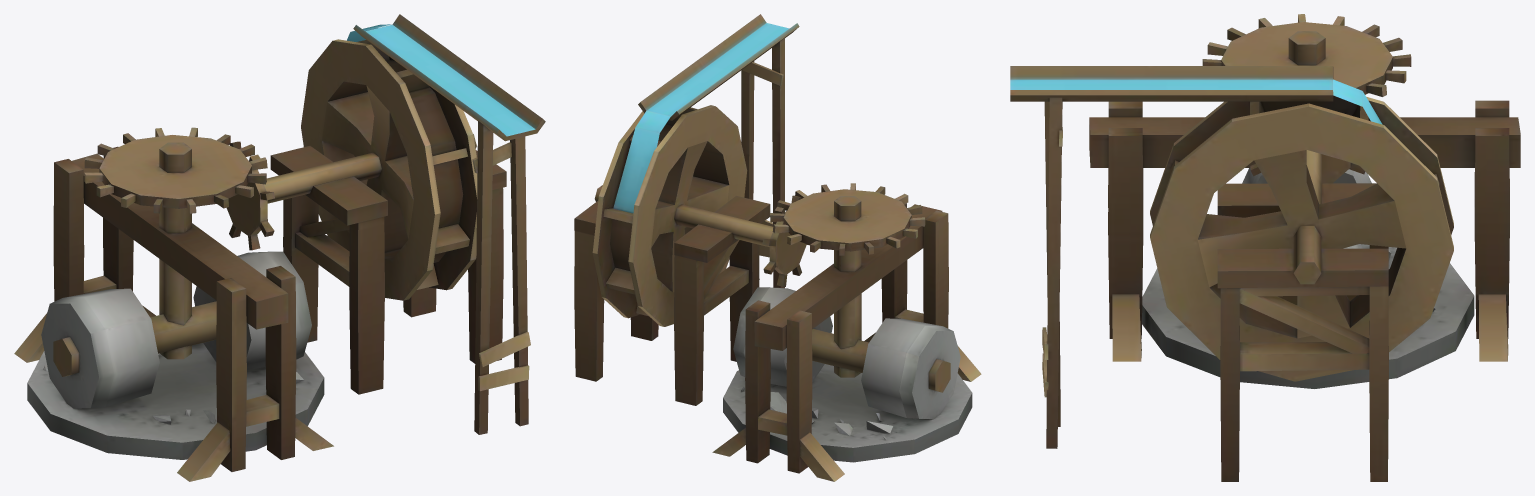
Rendered from stone-crusher.lod0.glb.
3 views of the same model, side by side, from view 1: azimuth 30°, elevation 25°; view 2: azimuth 150°, elevation 25°; view 3: azimuth 270°, elevation 25° (orthographic). The views are drawn at different scales.
Parts seen in each view (by area): view 1: Object_2; view 2: Object_2; view 3: Object_2.
Boxes of the visible parts, bbox=[...] form: Object_2: bbox=[14, 14, 545, 481]; Object_2: bbox=[574, 14, 981, 481]; Object_2: bbox=[1010, 14, 1520, 481].
Size of the model in its own units: 9 by 6.54 by 8.34.
1 material, 1 textured.
